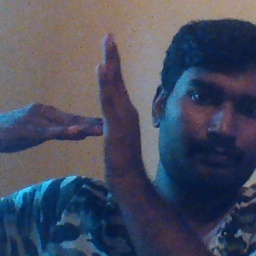Z: (26, 30, 151, 187)
